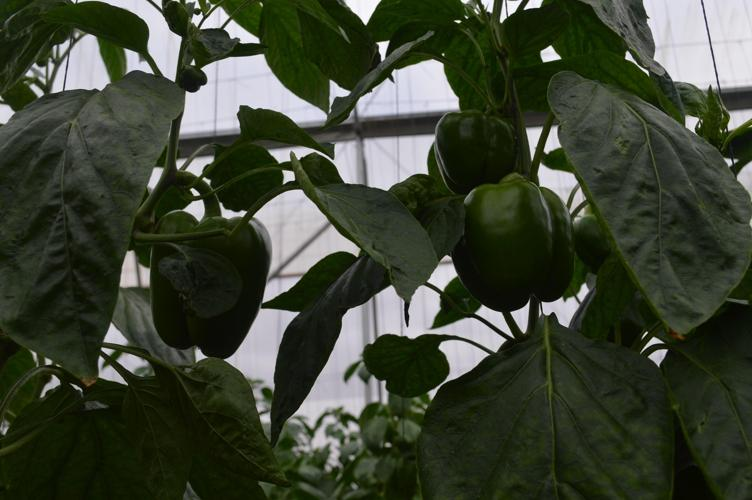BellPepper: (433, 180, 585, 317), (144, 210, 280, 363), (421, 102, 518, 190)
